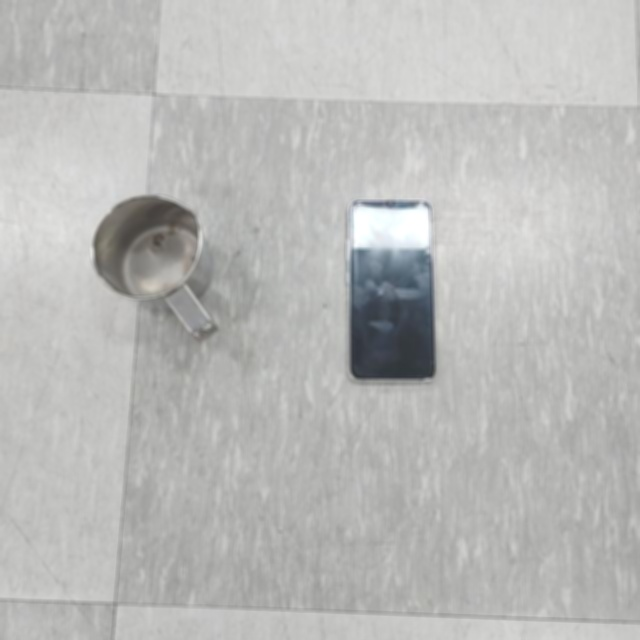cup: (93, 192, 221, 346)
phone: (347, 197, 437, 386)
